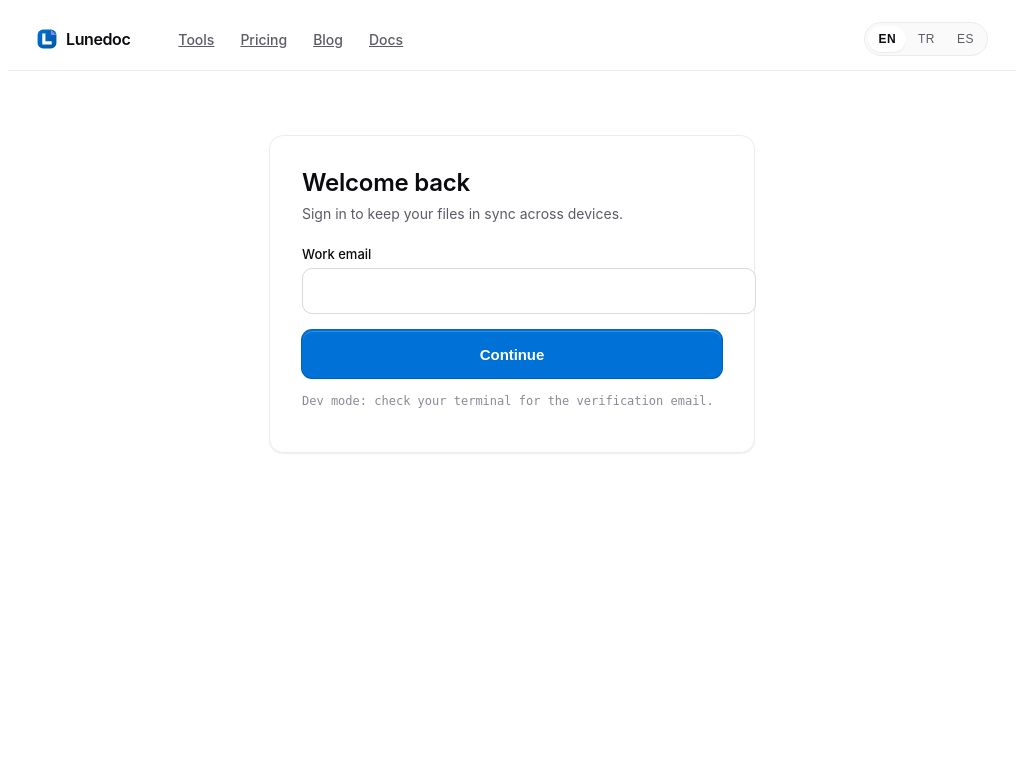
SigninPage › shows auth_invalid_code when verifyEmailAuth rejects with HTTP 400
In the field labelled "Work email": [529, 291] box x1=302 y1=268 x2=756 y2=314, type "a@b.com"
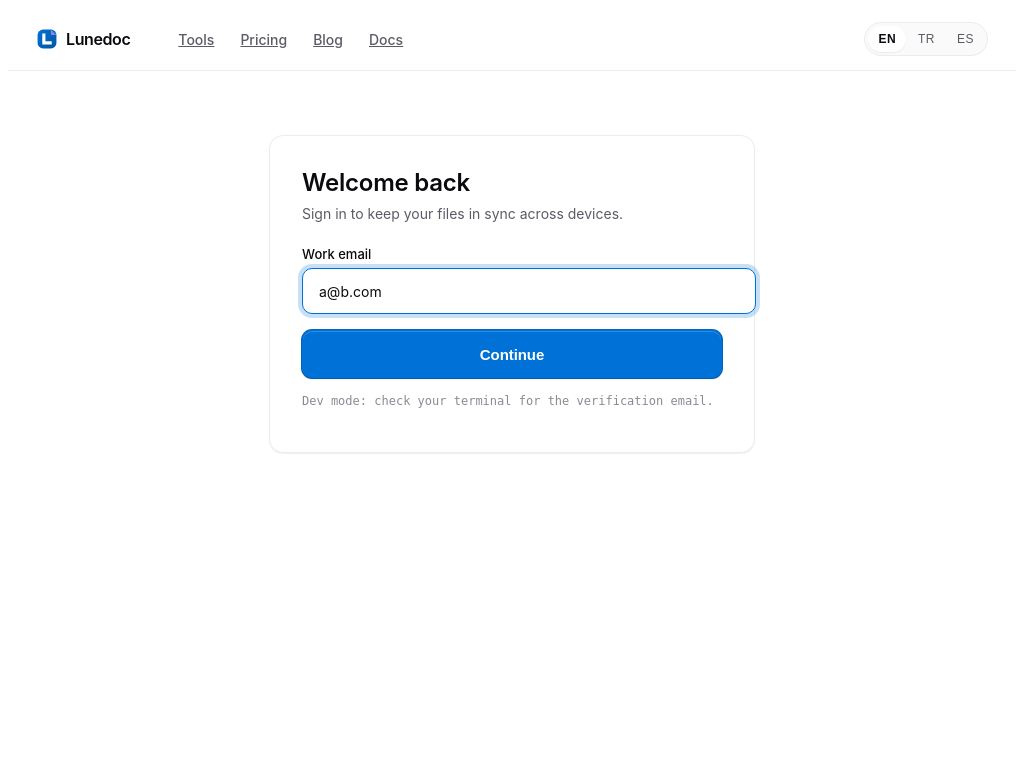
Click the button "Continue": [512, 354] box x1=302 y1=330 x2=722 y2=378
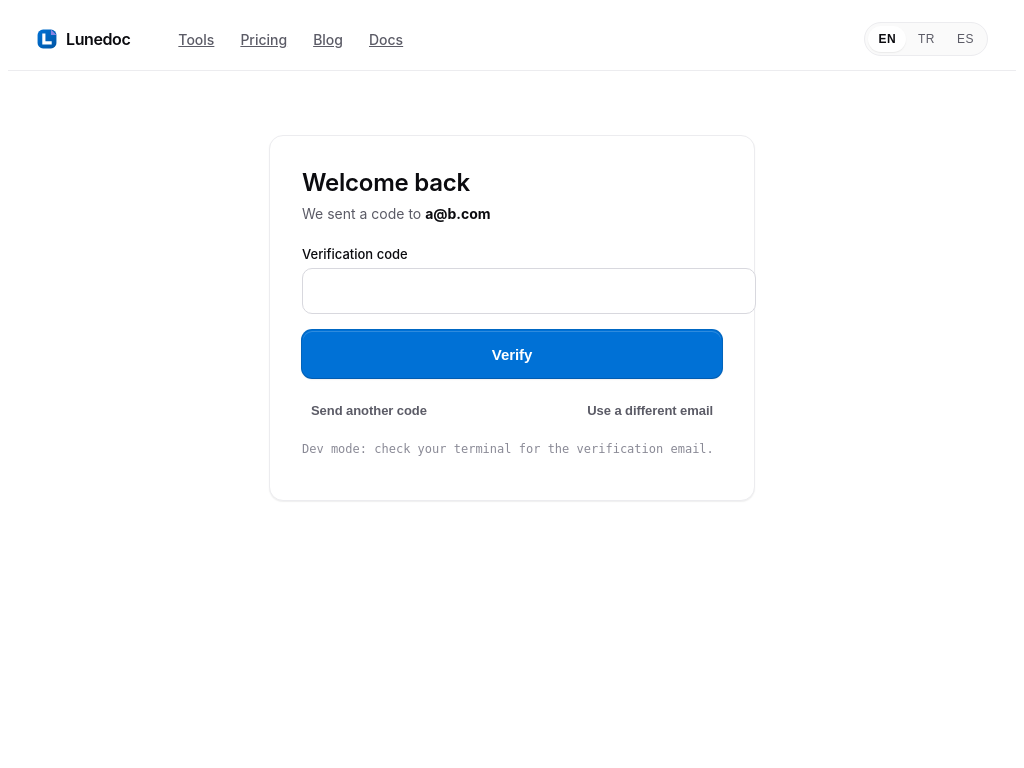
In the field labelled "Verification code": [529, 291] box x1=302 y1=268 x2=756 y2=314, type "000000"
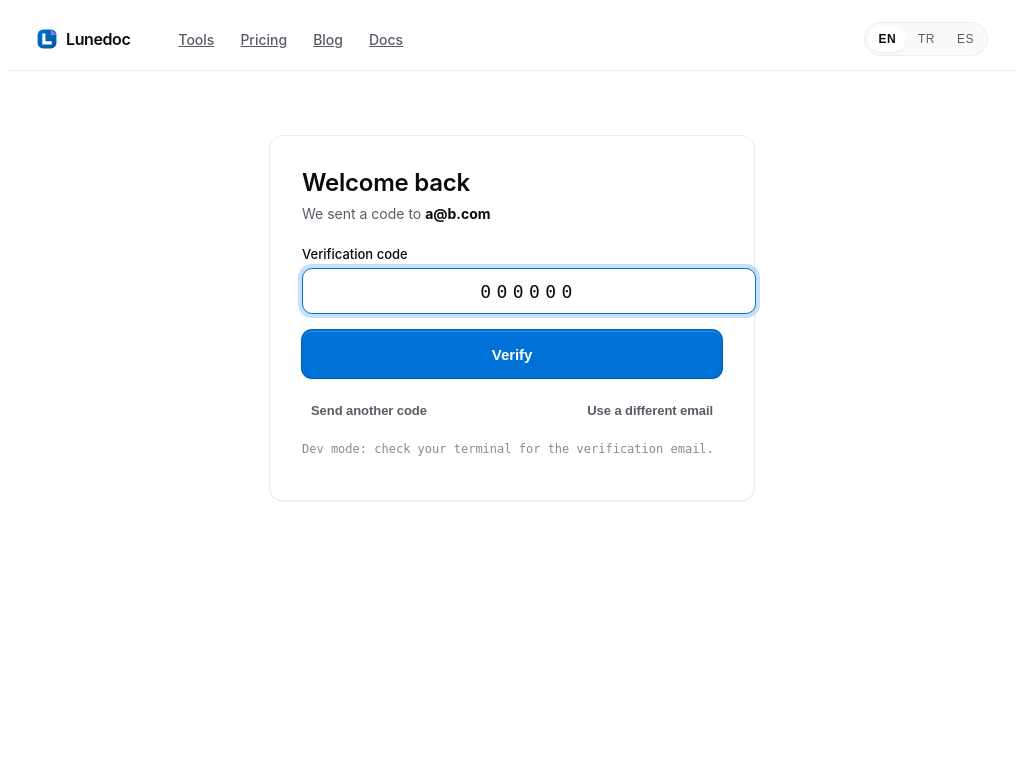
Click the button "Verify": [512, 354] box x1=302 y1=330 x2=722 y2=378
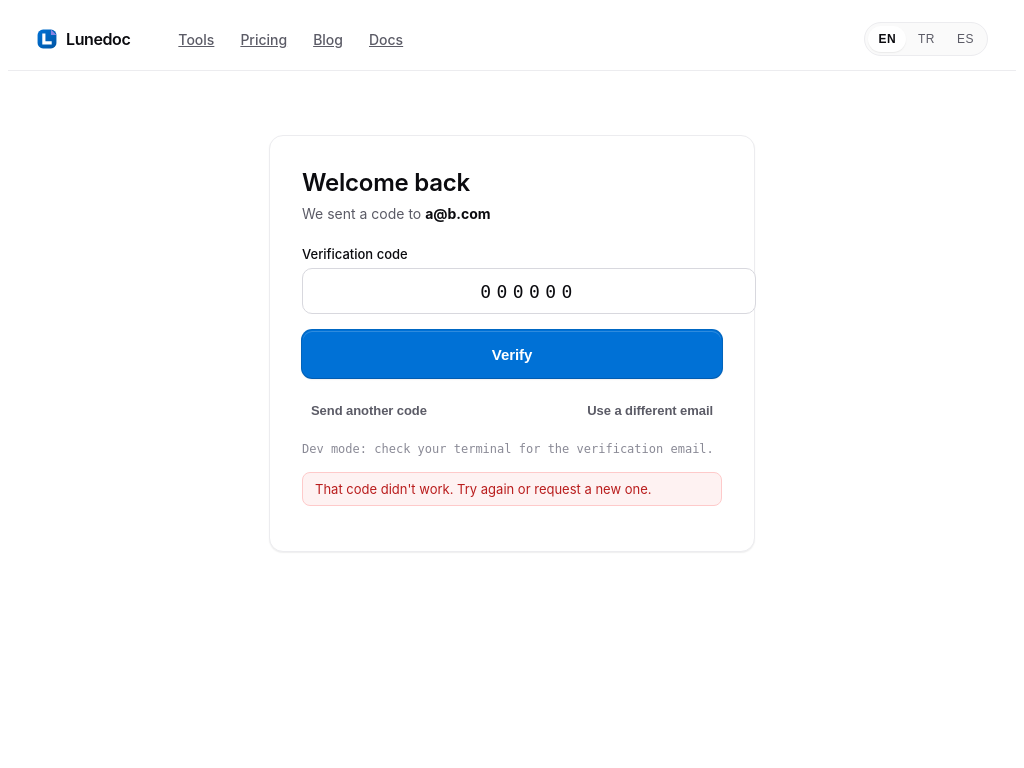
Now the message reads "That code didn't work. Try again or request a new one.", box x1=315 y1=481 x2=652 y2=497
